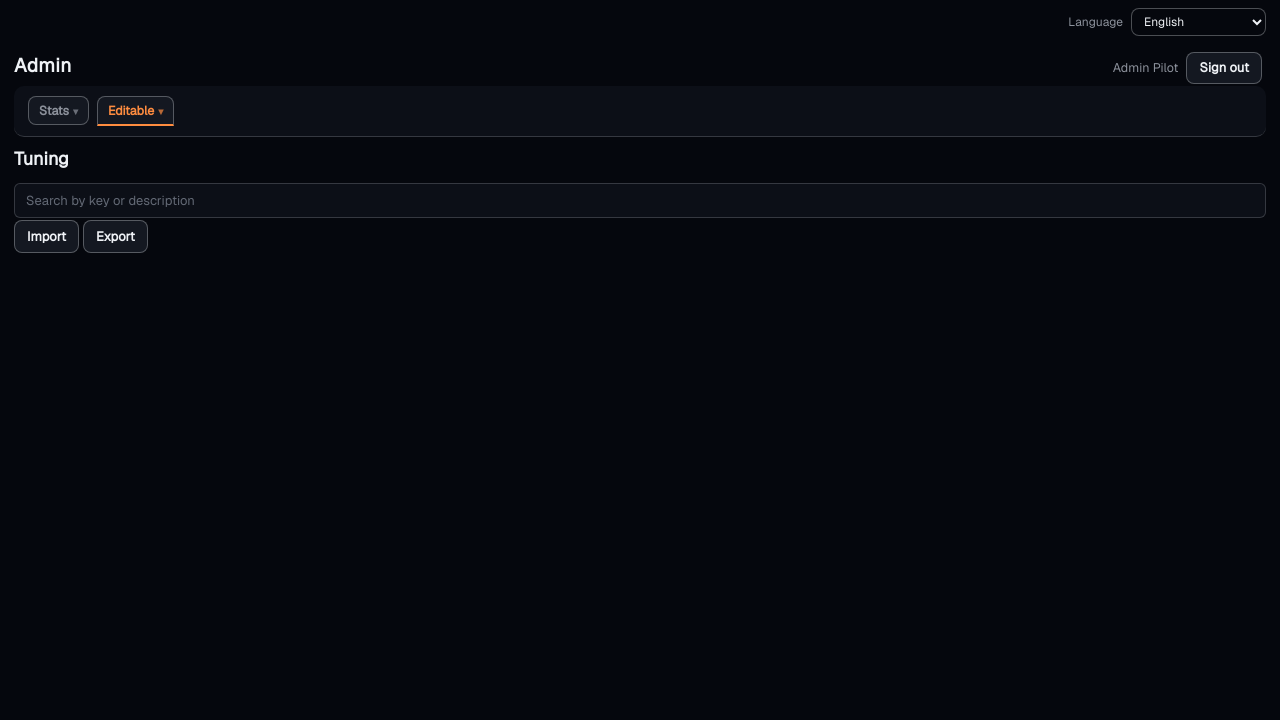
Test: admin tuning routing › navigates between tuning sections from the admin shell
The width and height of the screenshot is (1280, 720).
Check: the heading "Tuning" is shown, box [14, 147, 69, 170]
# Round 5: Stats/Editable are click-to-open menus now, not permanently expanded rows.
Click the button "Editable" at [136, 111], box [97, 96, 174, 126]
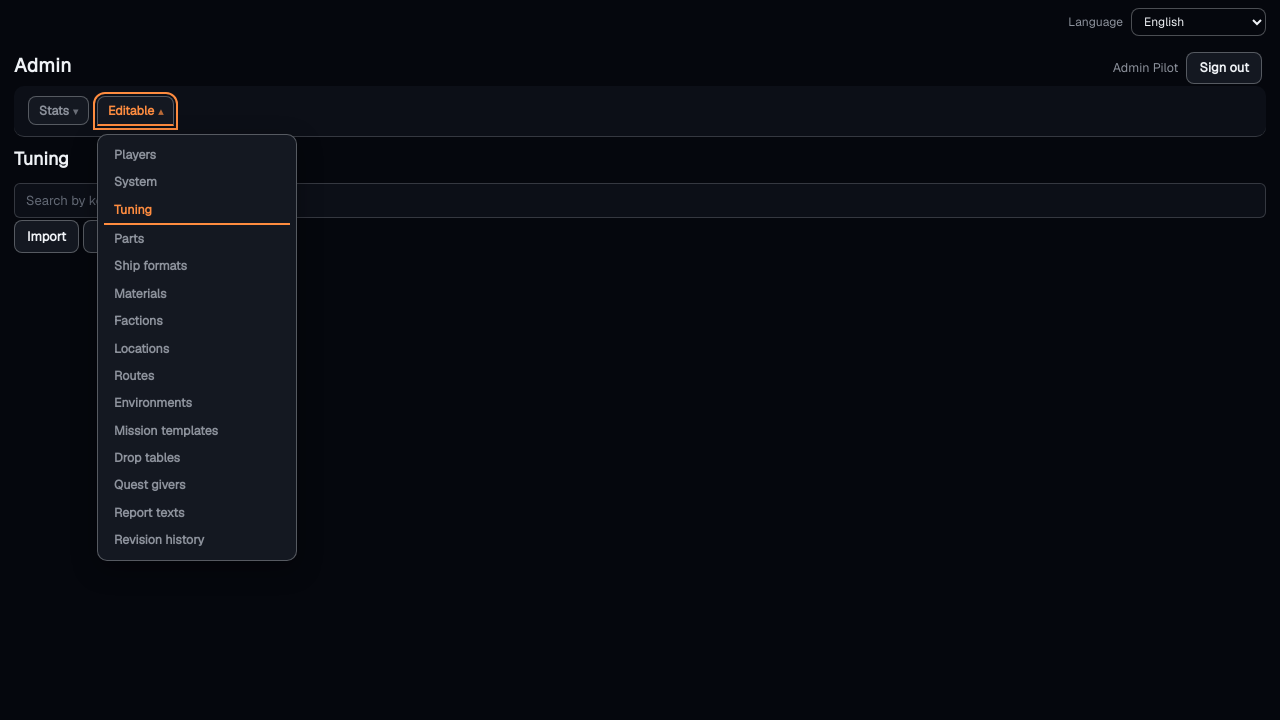
Click the link "Materials" at [140, 293], box [114, 285, 166, 302]
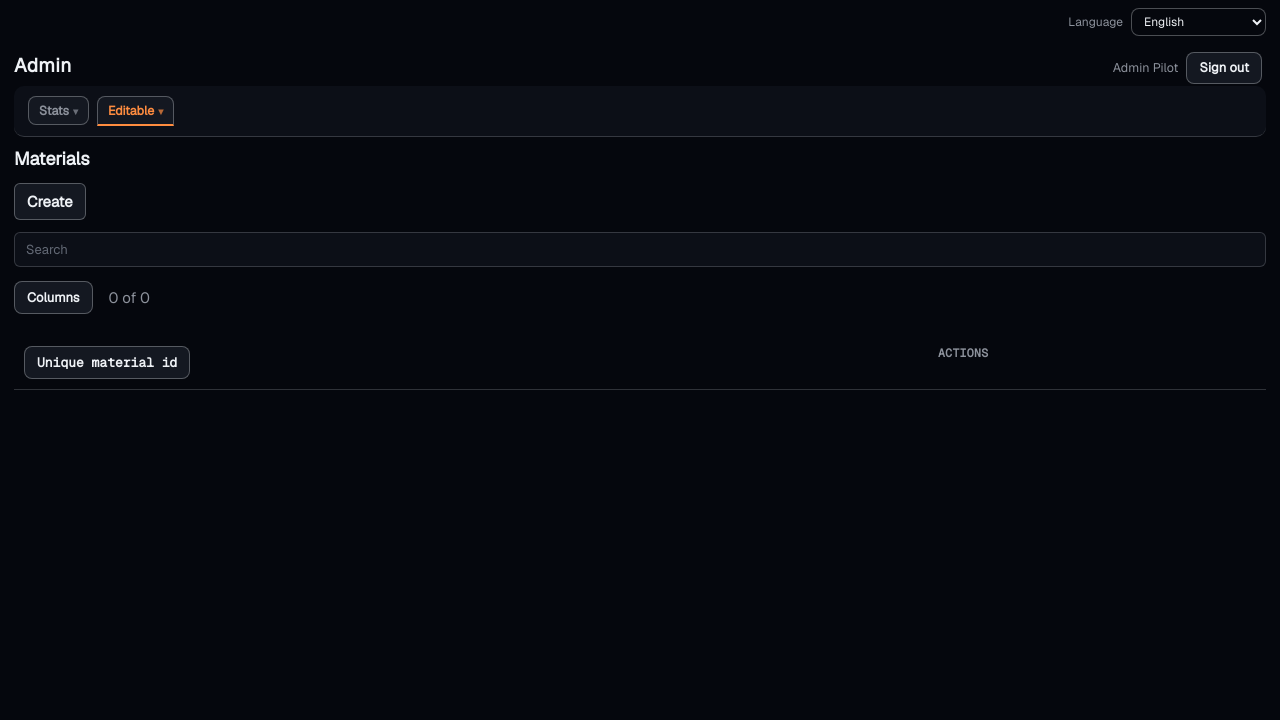
Check: the heading "Materials" is shown, box [14, 147, 90, 170]
Click the button "Editable" at [136, 111], box [97, 96, 174, 126]
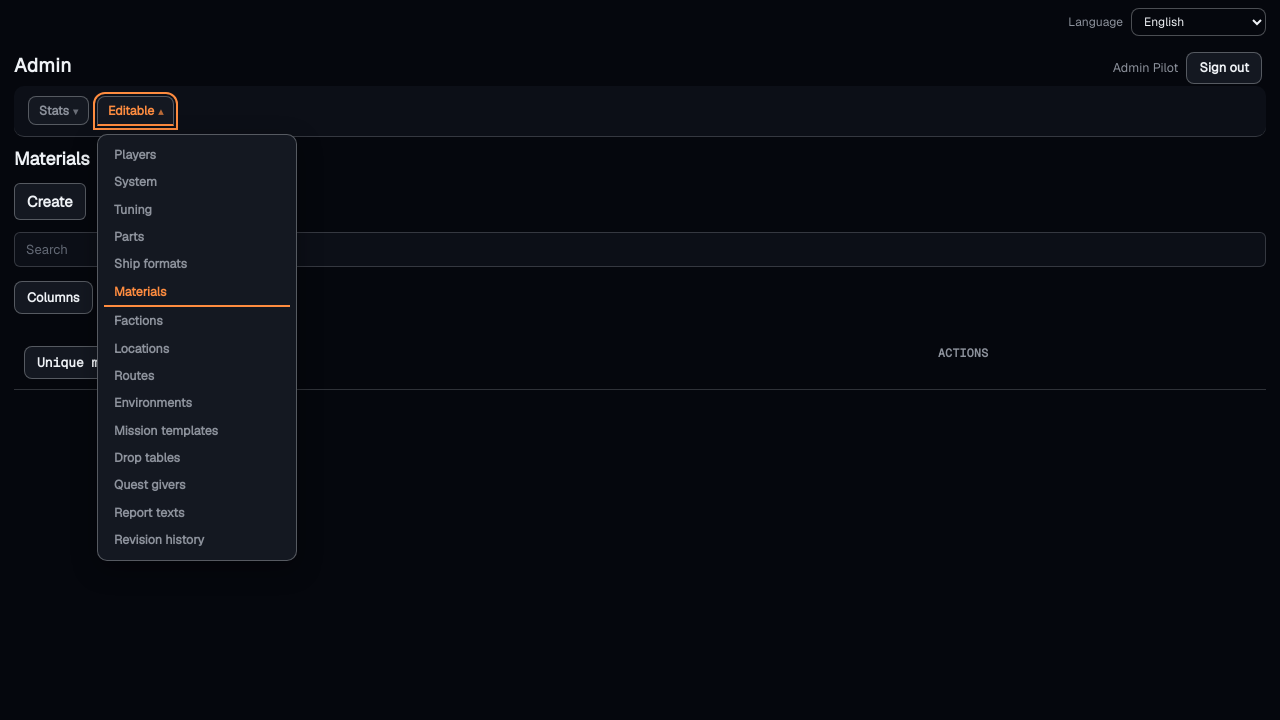
Check: the link "Parts" is shown, box [114, 228, 144, 245]
Check: the link "Factions" is shown, box [114, 312, 163, 329]
Check: the link "Locations" is shown, box [114, 340, 169, 357]
Click the link "Revision history" at [159, 540], box [114, 531, 204, 548]
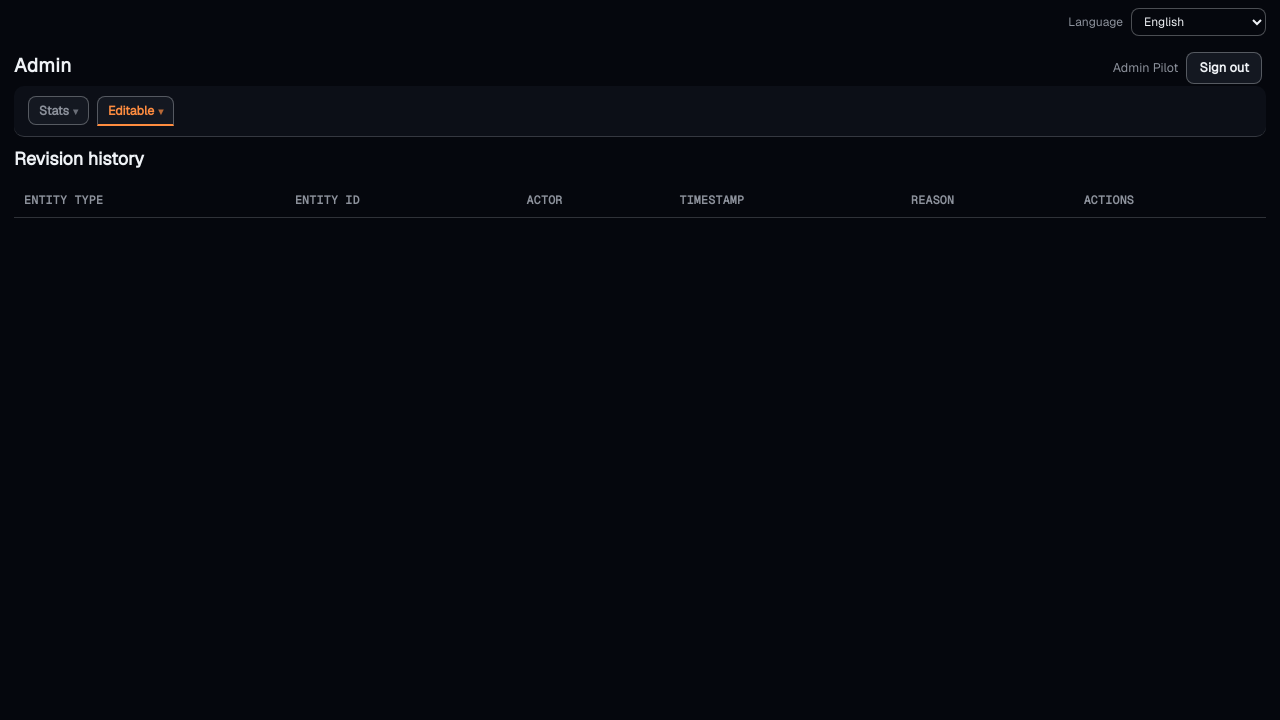
Check: the heading "Revision history" is shown, box [14, 147, 144, 170]
